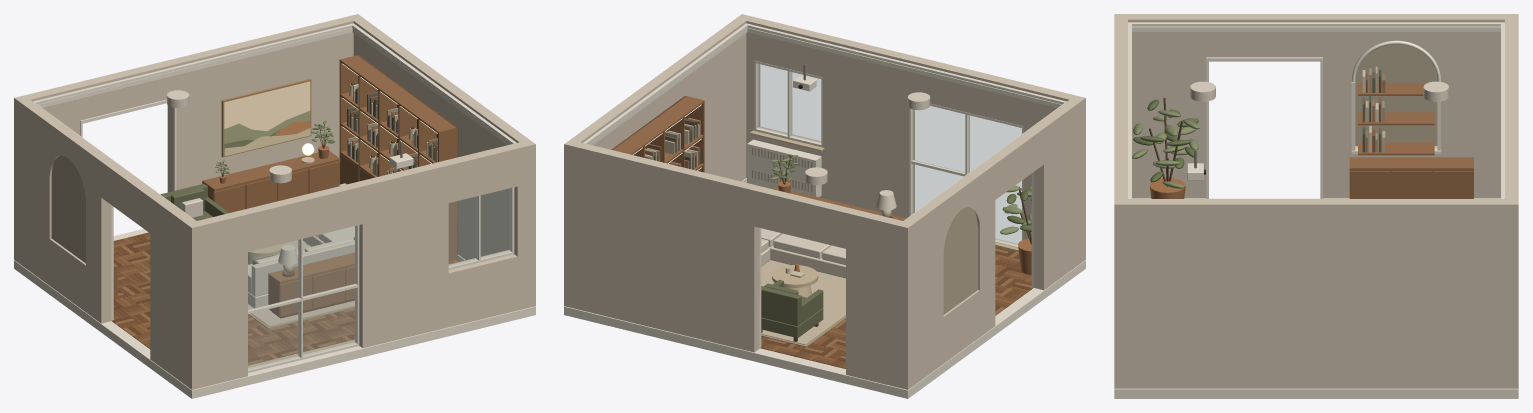
File: sala-quadro.glb
3 views of the same model, side by side, from view 1: azimuth 30°, elevation 25°; view 2: azimuth 150°, elevation 25°; view 3: azimuth 270°, elevation 25° (orthographic). The views are drawn at different scales.
Visible parts, largest first — view 1: Parede front, Parede back, Parede left, Pavimento — tacos de madeira, Estante direita — 3,00 × 0,34 × 2,20 m, Parede right, Quadro removível, Móvel sob a projeção, Aparador atrás do sofá — 2,30 × 0,35 m, Nicho em arco, Sofá em L — 2,70 × 1,95 m, Poltrona de linhas direitas — 0,78 × 0,78 m (+4 smaller); view 2: Parede back, Parede front, Parede left, Parede right, Pavimento — tacos de madeira, Estante direita — 3,00 × 0,34 × 2,20 m, Nicho em arco, Poltrona de linhas direitas — 0,78 × 0,78 m, Grelha existente, Sofá em L — 2,70 × 1,95 m, Tapete, Planta (×2) (+2 smaller); view 3: Parede right, Parede left, Nicho em arco, Parede front, Parede back, Arrumação sob o nicho, Pavimento — tacos de madeira, Planta, Luminárias de teto e projetor.
Part boxes in pixels (box(x1,y1,x2,y2)): Parede front: box(186, 140, 535, 389); Parede back: box(14, 14, 363, 263); Parede left: box(20, 99, 195, 385); Pavimento — tacos de madeira: box(14, 229, 535, 398); Estante direita — 3,00 × 0,34 × 2,20 m: box(339, 55, 458, 260); Parede right: box(351, 18, 529, 259); Quadro removível: box(221, 79, 311, 157); Móvel sob a projeção: box(202, 150, 340, 212); Aparador atrás do sofá — 2,30 × 0,35 m: box(268, 252, 354, 318); Nicho em arco: box(51, 155, 85, 263); Sofá em L — 2,70 × 1,95 m: box(248, 183, 354, 308); Poltrona de linhas direitas — 0,78 × 0,78 m: box(160, 183, 229, 220); Parede back: box(564, 140, 913, 389); Parede front: box(736, 14, 1085, 263); Parede left: box(904, 99, 1079, 385); Parede right: box(570, 18, 748, 181); Pavimento — tacos de madeira: box(564, 183, 1085, 398); Estante direita — 3,00 × 0,34 × 2,20 m: box(611, 95, 704, 172); Nicho em arco: box(943, 207, 977, 314); Poltrona de linhas direitas — 0,78 × 0,78 m: box(761, 279, 823, 341); Grelha existente: box(747, 139, 821, 197); Sofá em L — 2,70 × 1,95 m: box(761, 228, 845, 278); Tapete: box(761, 260, 845, 347); Planta (×2): box(770, 154, 1031, 274); Parede right: box(1128, 199, 1504, 388); Parede left: box(1128, 14, 1504, 198); Nicho em arco: box(1351, 40, 1441, 155); Parede front: box(1114, 14, 1131, 388); Parede back: box(1501, 14, 1518, 388); Arrumação sob o nicho: box(1349, 157, 1473, 198); Pavimento — tacos de madeira: box(1114, 198, 1518, 398); Planta: box(1132, 97, 1199, 198); Luminárias de teto e projetor: box(1187, 81, 1448, 180).
Bounding box in the file's own units: 6 × 2.85 × 5.38.
